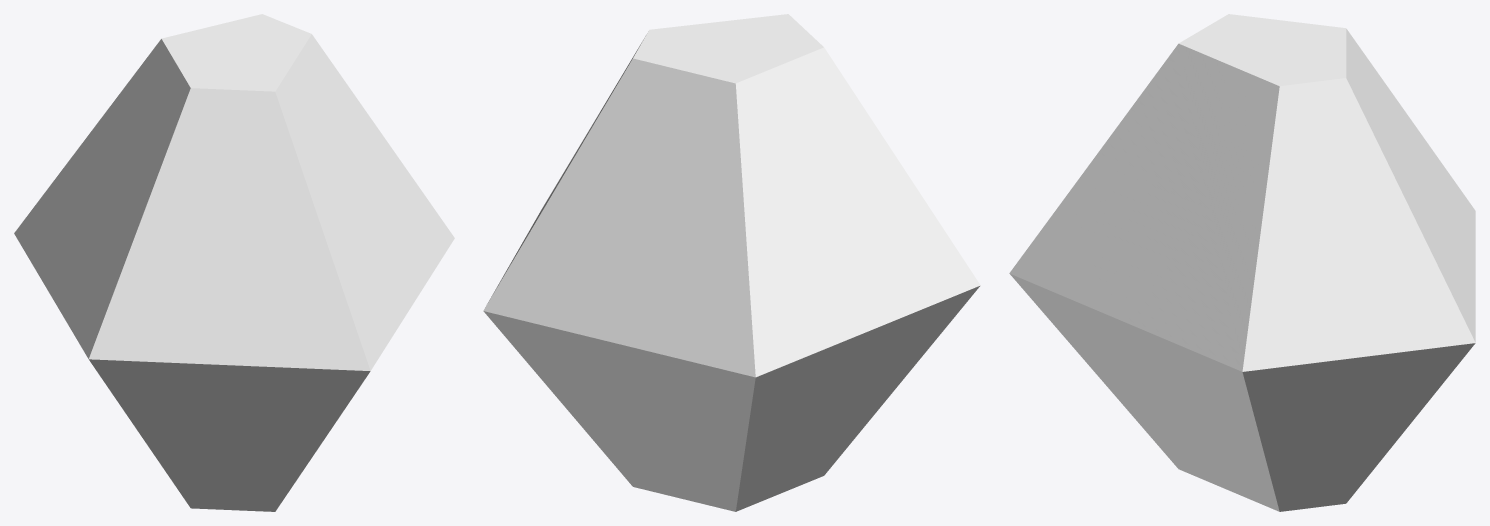
File: asteroid4.glb
3 renders of one model, left to right at view 1: azimuth 30°, elevation 25°; view 2: azimuth 150°, elevation 25°; view 3: azimuth 270°, elevation 25°, orthographic.
Visible parts, largest first — view 1: mergedBlocks(Clone); view 2: mergedBlocks(Clone); view 3: mergedBlocks(Clone).
Part boxes in pixels (x1,y1,x2,y2): mergedBlocks(Clone): (14, 14, 454, 511); mergedBlocks(Clone): (483, 14, 980, 511); mergedBlocks(Clone): (1009, 14, 1475, 511).
Bounding box in the file's own units: 0.3608 × 0.3633 × 0.3608.
1 material, 1 textured.
